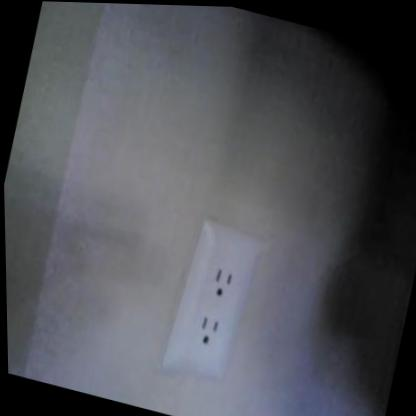OUTLET: (156, 214, 269, 391)
